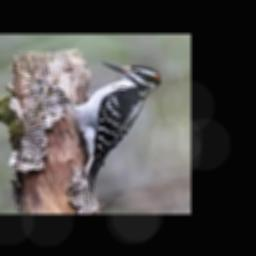Woodpecker: (72, 61, 161, 188)
